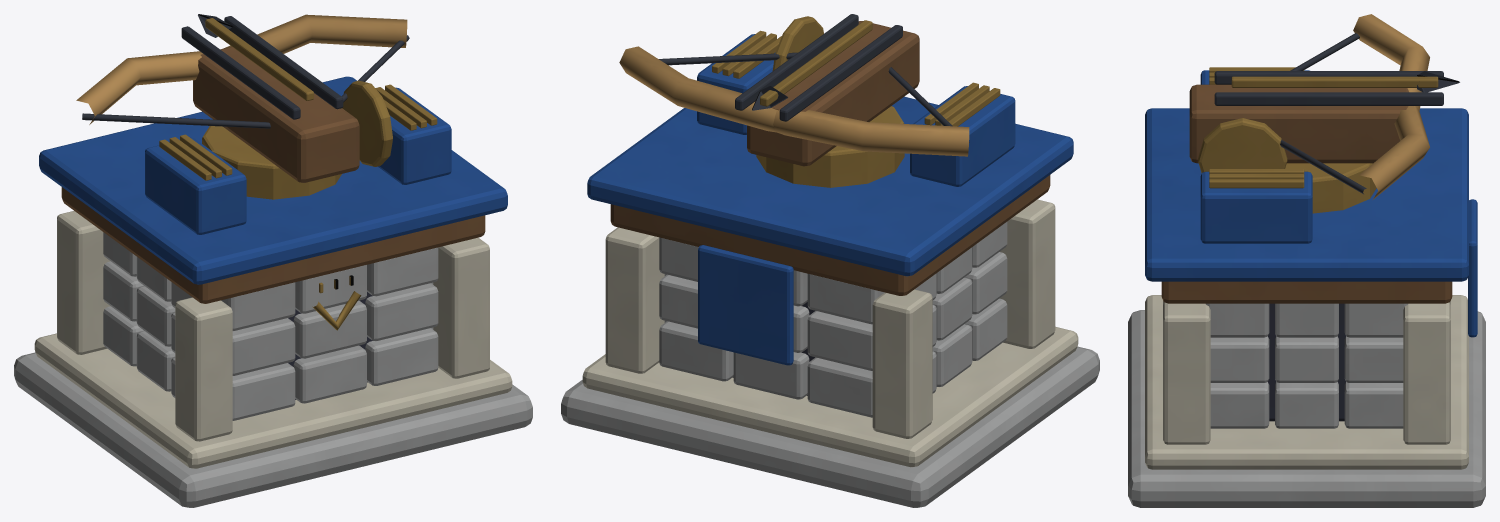
File: ballista_tower_low.glb
3 renders of one model, left to right at view 1: azimuth 30°, elevation 25°; view 2: azimuth 150°, elevation 25°; view 3: azimuth 270°, elevation 25°, orthographic. The views are drawn at different scales.
Parts seen in each view (by area): view 1: ballista_tower_low_surface; view 2: ballista_tower_low_surface; view 3: ballista_tower_low_surface.
Part boxes in pixels (<box>): ballista_tower_low_surface: <box>14,14,532,507</box>; ballista_tower_low_surface: <box>561,14,1099,507</box>; ballista_tower_low_surface: <box>1128,14,1485,507</box>.
Bounding box in the file's own units: 1.48 × 1.4 × 1.28.
Materials: 1 (1 with a texture image).
